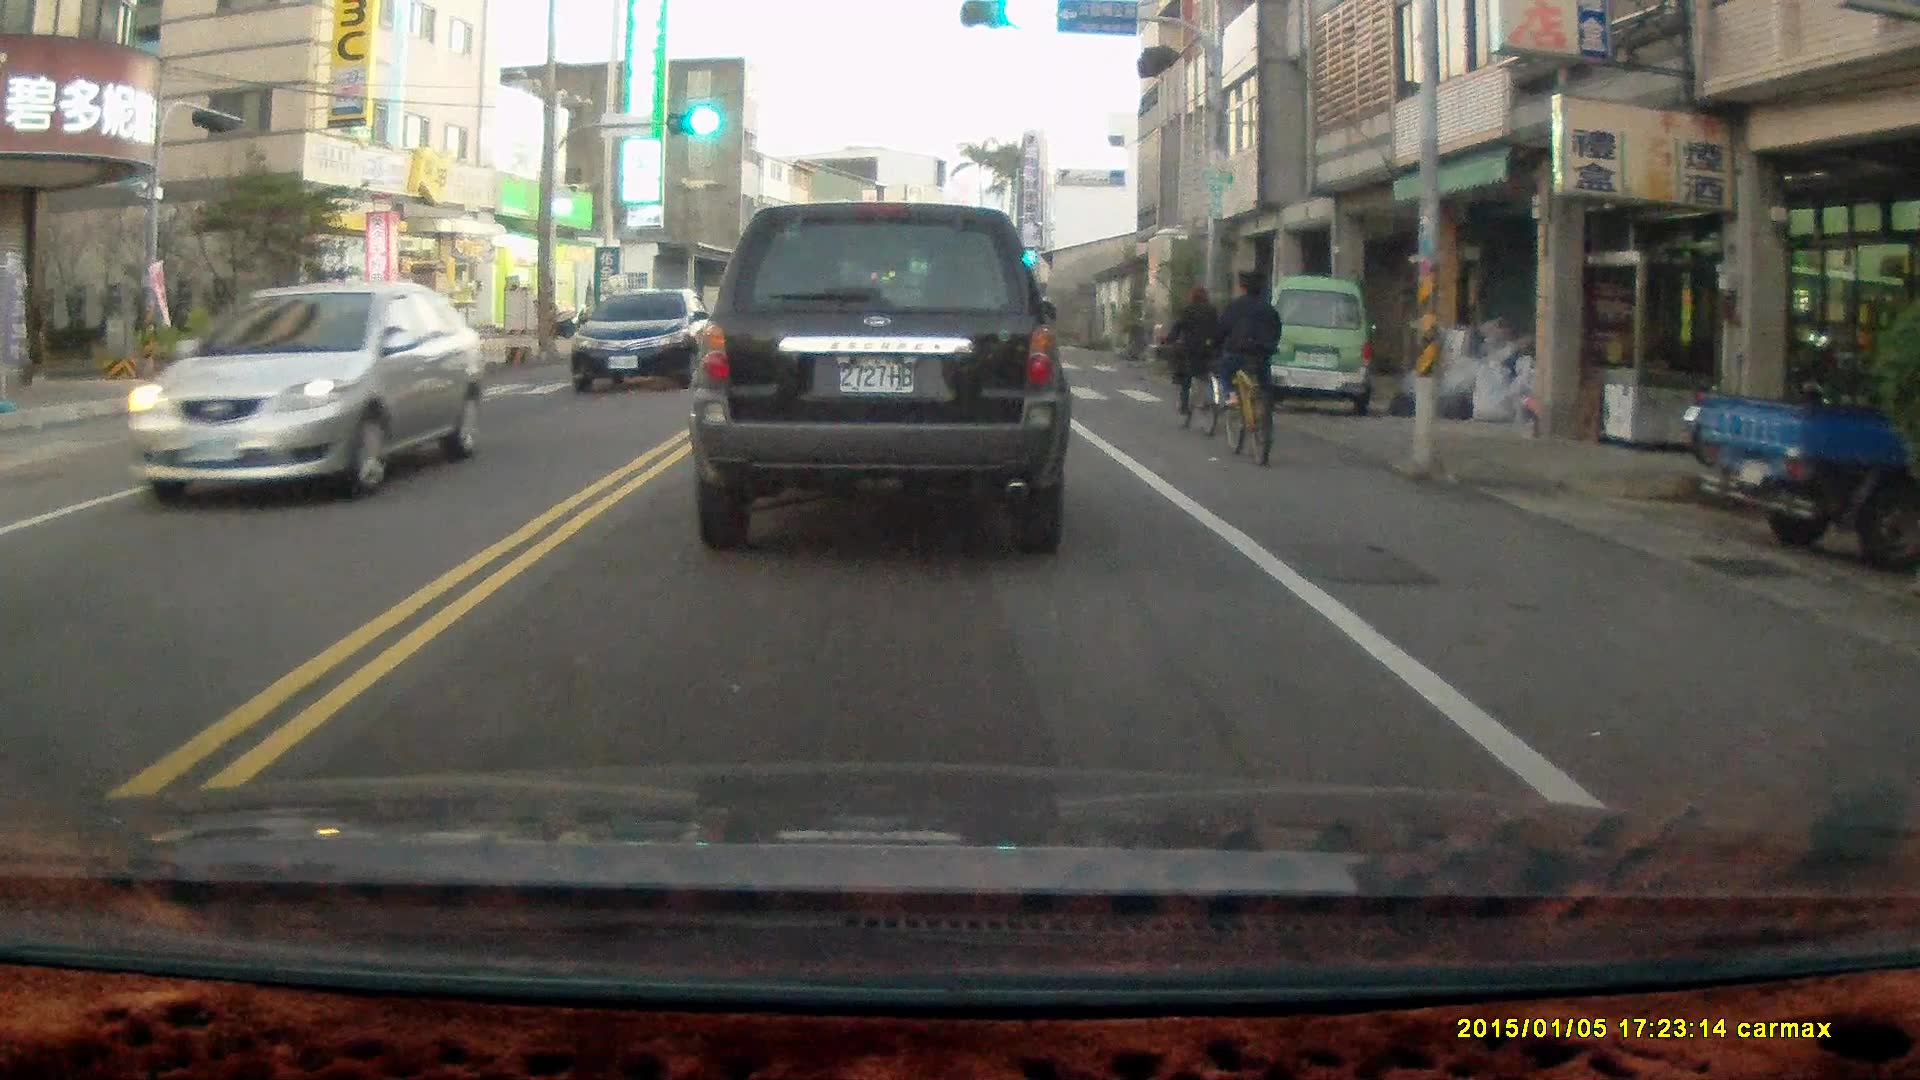rider: (1201, 266, 1278, 464), (1158, 280, 1223, 436)
vehicle: (689, 198, 1073, 551), (114, 284, 485, 507), (570, 284, 722, 397), (1260, 273, 1376, 419)
